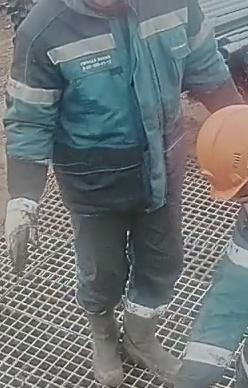gloves: (3, 183, 41, 280)
helmet: (194, 104, 248, 200)
vest: (12, 0, 210, 198)
